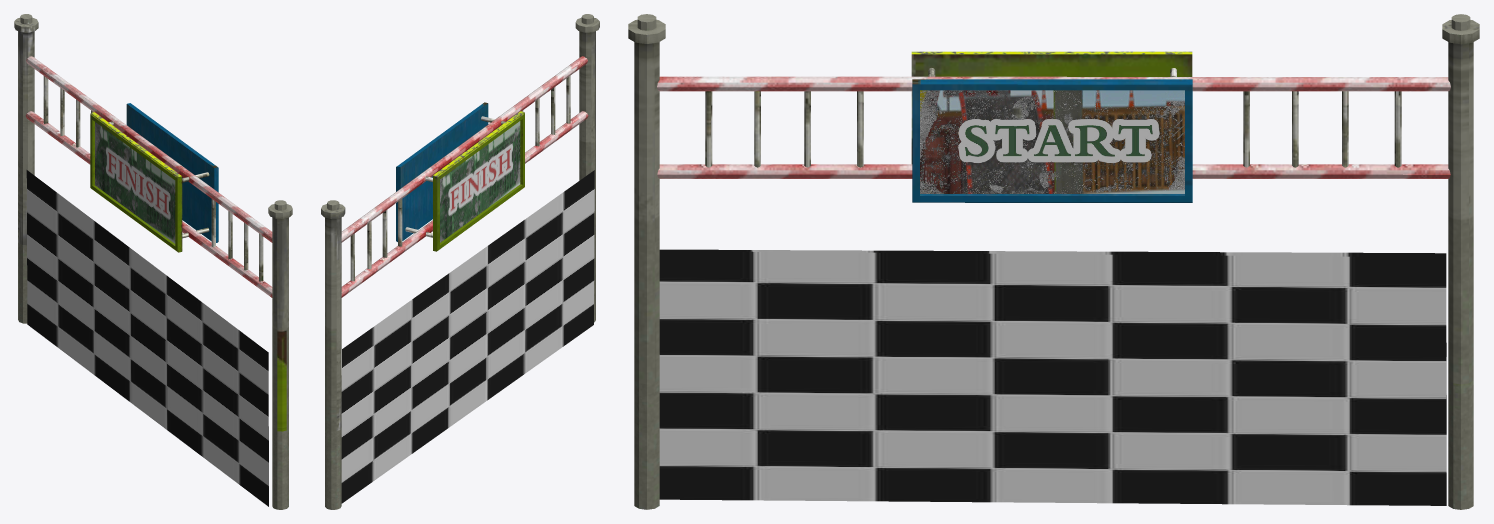
Rendered from start , finish point (2).fbx.
3 views of the same model, side by side, from view 1: azimuth 30°, elevation 25°; view 2: azimuth 150°, elevation 25°; view 3: azimuth 270°, elevation 25° (orthographic). The views are drawn at different scales.
Parts seen in each view (by area): view 1: pasted__pasted__Building_Planer_1__4_; view 2: pasted__pasted__Building_Planer_1__4_; view 3: pasted__pasted__Building_Planer_1__4_.
Boxes of the visible parts, x1,y1,x2,y2 form: pasted__pasted__Building_Planer_1__4_: [14, 14, 292, 509]; pasted__pasted__Building_Planer_1__4_: [321, 14, 599, 509]; pasted__pasted__Building_Planer_1__4_: [628, 14, 1479, 509].
Bounding box in the file's own units: 88.09 × 616 × 977.
Materials: 3 (3 with a texture image).
